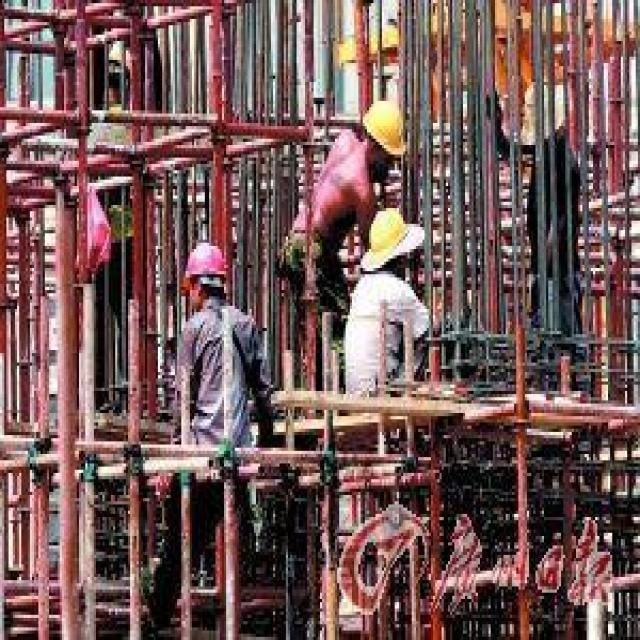hat: (358, 95, 408, 176), (367, 206, 418, 280), (182, 240, 230, 316)
